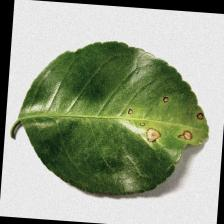canker: (114, 92, 209, 155)
